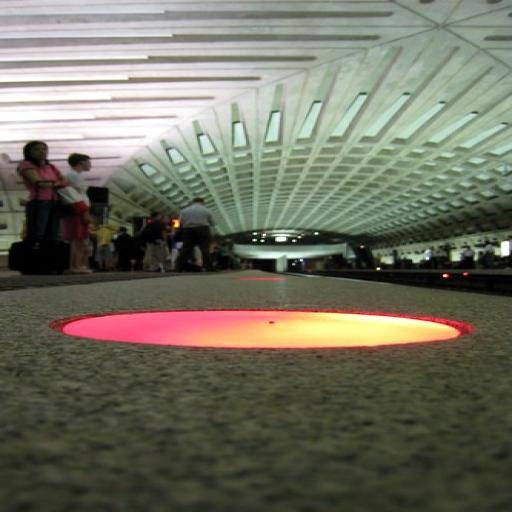platform_edge: (0, 265, 209, 311)
